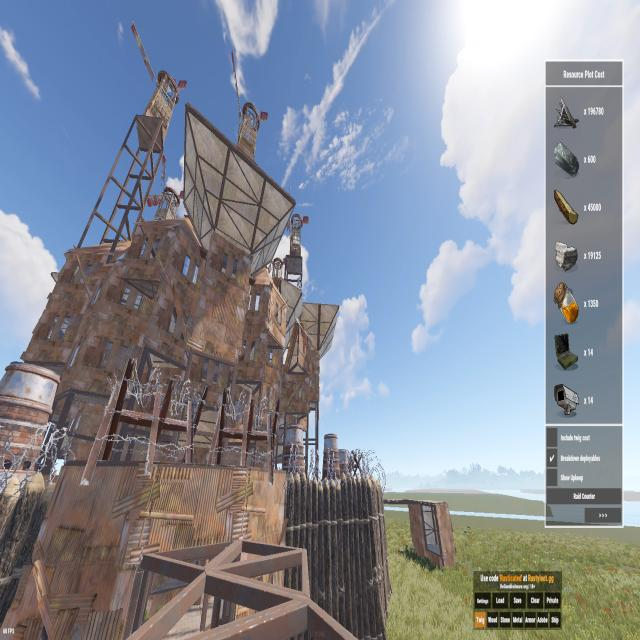Player: (297, 274, 302, 292)
